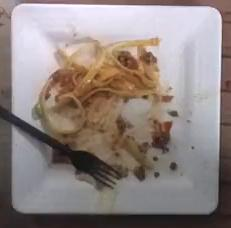pasta: (35, 37, 161, 134)
